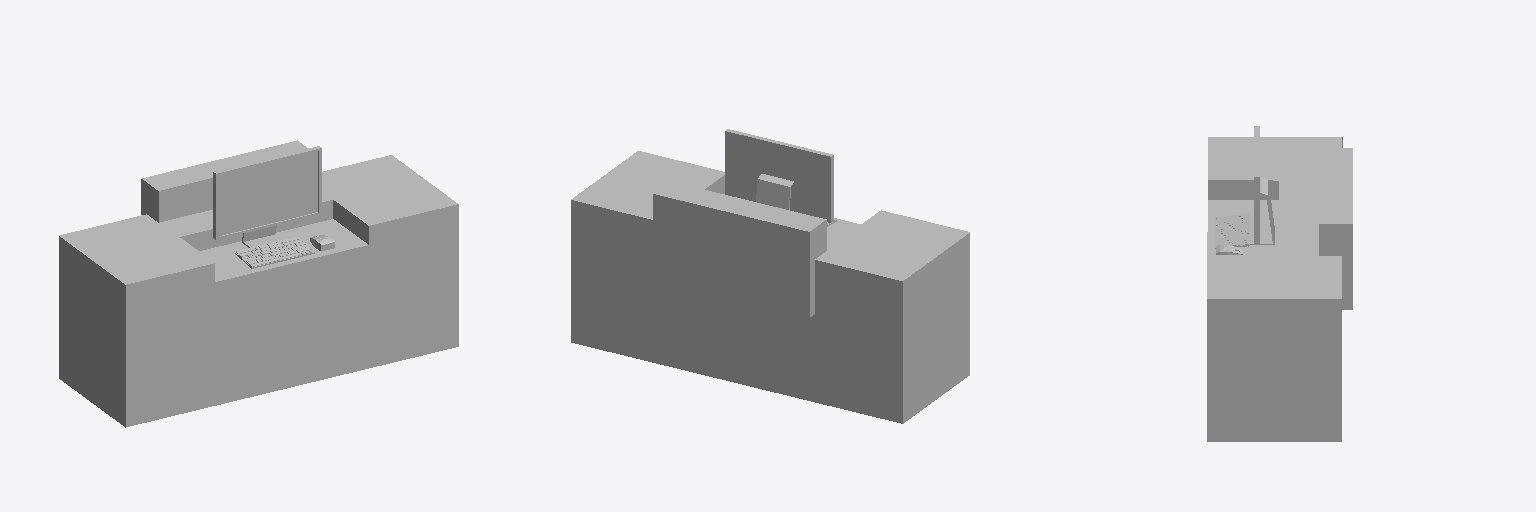
Rendered from recepcion_rafael_imitola.obj.
3 views of the same model, side by side, from view 1: azimuth 30°, elevation 25°; view 2: azimuth 150°, elevation 25°; view 3: azimuth 270°, elevation 25° (orthographic).
Visible parts, largest first — view 1: pCube5, pasted__pCube1 group, pCube6, pCube1, pCube3, pCube2; view 2: pCube5, pCube6, pCube1, pCube2; view 3: pCube5, pCube6, pCube3, pCube1, pCube2.
Part boxes in pixels (left/top/right/bottom): pCube5: left=59, top=155, right=458, bottom=427; pasted__pCube1 group: left=220, top=152, right=317, bottom=235; pCube6: left=141, top=140, right=308, bottom=222; pCube1: left=213, top=146, right=321, bottom=239; pCube3: left=235, top=237, right=314, bottom=268; pCube2: left=242, top=225, right=282, bottom=247; pCube5: left=571, top=151, right=969, bottom=423; pCube6: left=653, top=181, right=826, bottom=317; pCube1: left=725, top=129, right=833, bottom=222; pCube2: left=756, top=174, right=793, bottom=209; pCube5: left=1207, top=137, right=1342, bottom=441; pCube6: left=1319, top=148, right=1352, bottom=309; pCube3: left=1215, top=214, right=1249, bottom=248; pCube1: left=1254, top=126, right=1259, bottom=243; pCube2: left=1250, top=177, right=1274, bottom=244.
Size of the model in its own units: 26.44 by 15.88 by 10.04.